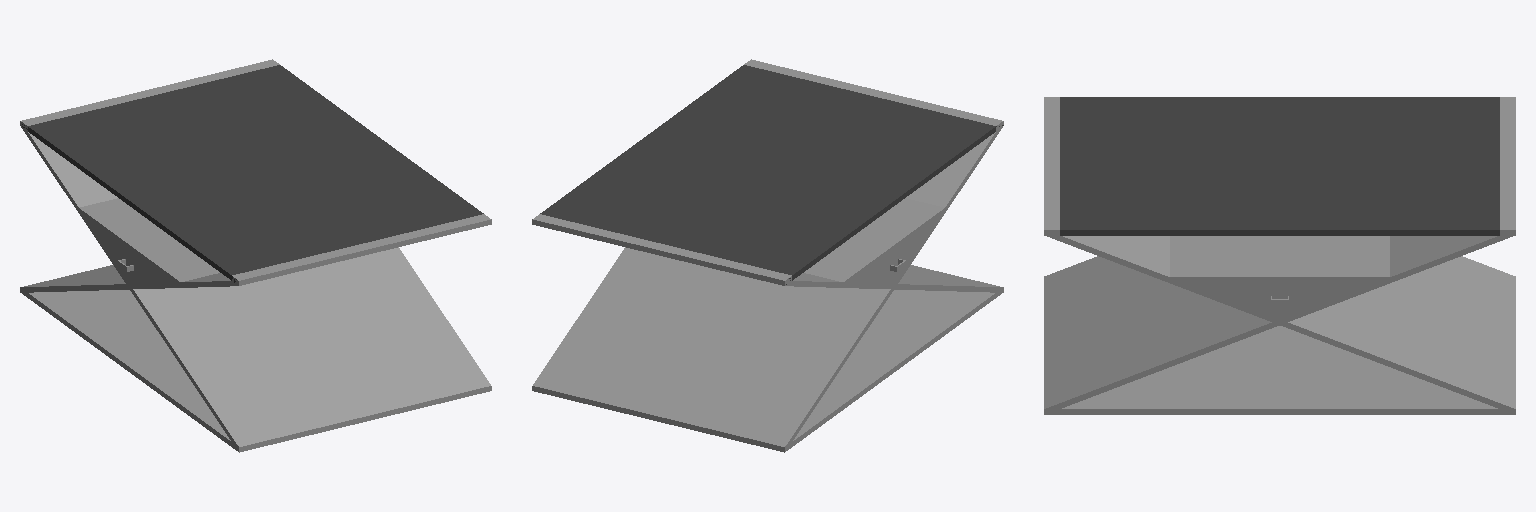
robot.urdf — tbl_model:
<robot name="tbl_model">
  <link name="tbl">
    <inertial>
      <mass value="1.0" />
      <inertia  ixx="1.0" ixy="0.0"  ixz="0.0"  iyy="10.0"  iyz="0.0"  izz="1.0" />
    </inertial>
    <visual>
      <geometry>
        <mesh filename="package://models_pkg/models/living_room/table1.dae" scale="1 1 1"/>
      </geometry>	
    </visual>
    <collision>
      <geometry>
        <mesh filename="package://models_pkg/models/living_room/table1.dae" scale="1 1 1"/>
      </geometry>
    </collision>
  </link>
</robot>

--- Facts derived from the render (not from the file) ---
3 views of the same robot in one strip: view 1: azimuth 30°, elevation 25°; view 2: azimuth 150°, elevation 25°; view 3: azimuth 270°, elevation 25° (orthographic).
Model tbl_model with 1 links and 0 joints (none), rooted at tbl, posed all joints at 0.
Visible links, largest first — view 1: tbl; view 2: tbl; view 3: tbl.
Link boxes in pixels (<box>): tbl: <box>20,59,491,452</box>; tbl: <box>532,59,1003,452</box>; tbl: <box>1044,97,1515,414</box>.
Size in the robot's own frame: 1.06 by 1.5 by 0.65 metres.
Meshes: 1 distinct files referenced, 1 mesh visuals loaded (1 Collada DAE).